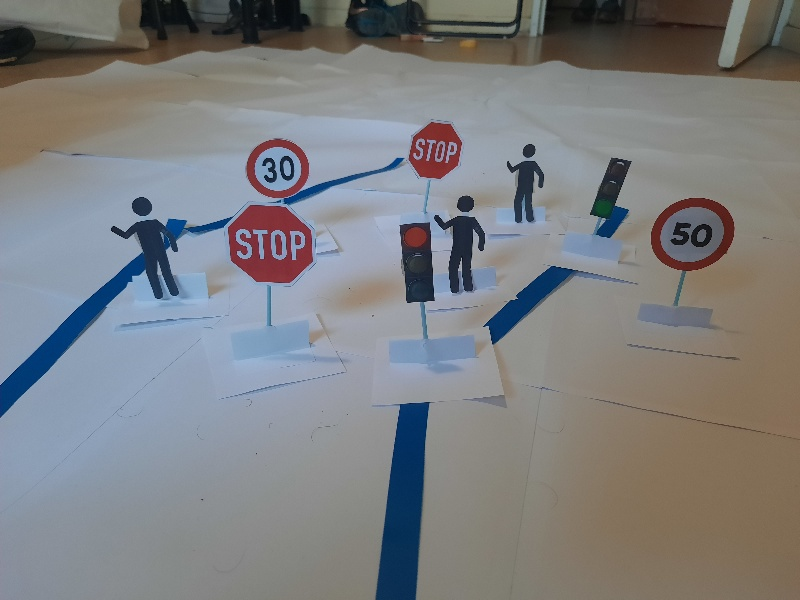Green: (588, 156, 631, 216)
Limit 30: (243, 142, 309, 192)
Limit 50: (648, 199, 734, 273)
Person: (111, 197, 184, 297), (436, 197, 485, 293), (509, 144, 543, 222)
Red: (400, 221, 436, 301)
Stop: (227, 206, 314, 286), (405, 119, 458, 176)
